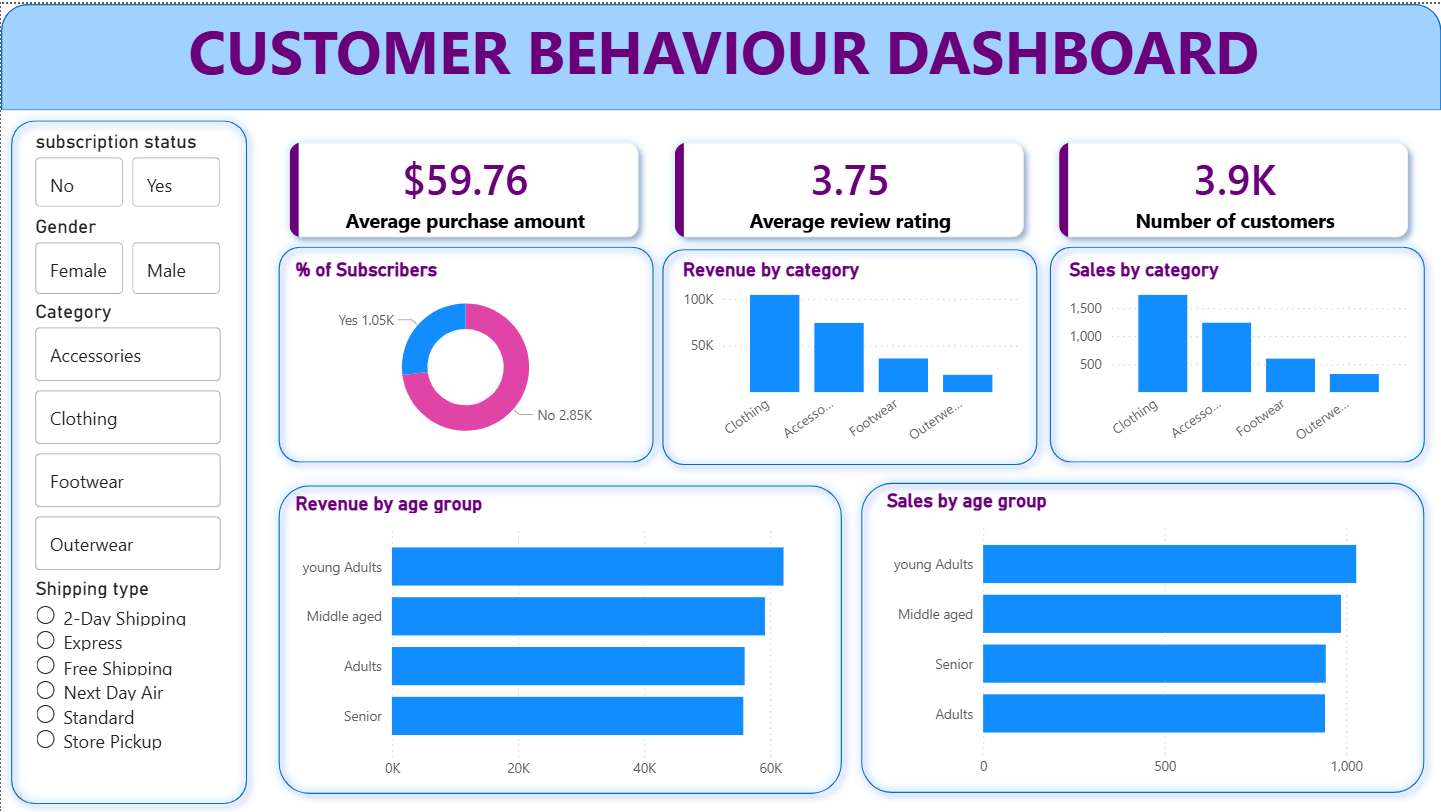

What the dashboard file says about the page in this screenshot:
{"tool":"powerbi","page":{"name":"Page 1","canvas":[1280,720],"ordinal":0},"visuals":[{"type":"cardVisual","fields":{"Data":["customers.Average purchase amount","customers.Average review rating","customers.Number of customers"]},"box":[227.8,94.7,1052.5,142.7],"z":0},{"type":"shape","box":[0,0,1280.3,94.7],"z":1000},{"type":"textbox","box":[4.1,0,1276.2,94.7],"z":2000},{"type":"shape","box":[237.4,207.2,351.3,209.9],"z":3000},{"type":"donutChart","title":"% of Subscribers","fields":{"Category":["customers.subscription_status"],"Y":["CountNonNull(customers.customer_id)"]},"box":[256.6,225,312.9,175.6],"z":4000},{"type":"shape","box":[579.1,208.6,351.3,209.9],"z":5000},{"type":"shape","box":[923.5,207.2,351.3,209.9],"z":6000},{"type":"clusteredColumnChart","title":"Revenue by category","fields":{"Y":["Sum(customers.purchase_amount)"],"Category":["customers.category"]},"box":[601,225,310.1,175.6],"z":7000},{"type":"clusteredColumnChart","title":"Sales by category","fields":{"Y":["CountNonNull(customers.customer_id)"],"Category":["customers.category"]},"box":[944.1,225,310.1,175.6],"z":8000},{"type":"shape","box":[0,94.7,227.8,625.7],"z":9000},{"type":"advancedSlicerVisual","title":"subscription status","fields":{"Values":["customers.subscription_status"]},"box":[26.1,112.5,175.6,74.1],"z":10000},{"type":"advancedSlicerVisual","title":"Gender","fields":{"Values":["customers.gender"]},"box":[26.1,188,175.6,75.5],"z":11000},{"type":"advancedSlicerVisual","title":"Category","fields":{"Values":["customers.category"]},"box":[26.1,263.5,175.6,245.6],"z":12000},{"type":"listSlicer","fields":{"Values":["customers.shipping_type"]},"box":[26.1,509.1,175.6,211.3],"z":13000},{"type":"shape","box":[237.4,418.5,518.7,292.3],"z":14000},{"type":"shape","box":[756.1,417.2,518.7,293.7],"z":16000},{"type":"clusteredBarChart","title":"Revenue by age group","fields":{"Category":["customers.age_group"],"Y":["Sum(customers.purchase_amount)"]},"box":[256.6,433.6,498.1,264.8],"z":16001},{"type":"clusteredBarChart","title":"Sales by age group","fields":{"Category":["customers.age_group"],"Y":["CountNonNull(customers.customer_id)"]},"box":[782.2,430.9,498.1,264.8],"z":16002}]}

Visuals, with their boxes in screenshot pixels (x1, y1, x2, y2), scaled from the page's 1280x720 canvas onto the 1441x812 screenshot:
cardVisual - customers.Average purchase amount x customers.Average review rating: [x1=256, y1=107, x2=1440, y2=268]
shape: [x1=0, y1=0, x2=1440, y2=107]
textbox: [x1=5, y1=0, x2=1440, y2=107]
shape: [x1=267, y1=234, x2=663, y2=470]
"% of Subscribers" donutChart: [x1=289, y1=254, x2=641, y2=452]
shape: [x1=652, y1=235, x2=1047, y2=472]
shape: [x1=1040, y1=234, x2=1435, y2=470]
"Revenue by category" clusteredColumnChart: [x1=677, y1=254, x2=1026, y2=452]
"Sales by category" clusteredColumnChart: [x1=1063, y1=254, x2=1412, y2=452]
shape: [x1=0, y1=107, x2=256, y2=811]
"subscription status" advancedSlicerVisual: [x1=29, y1=127, x2=227, y2=210]
"Gender" advancedSlicerVisual: [x1=29, y1=212, x2=227, y2=297]
"Category" advancedSlicerVisual: [x1=29, y1=297, x2=227, y2=574]
listSlicer - customers.shipping_type: [x1=29, y1=574, x2=227, y2=811]
shape: [x1=267, y1=472, x2=851, y2=802]
shape: [x1=851, y1=471, x2=1435, y2=802]
"Revenue by age group" clusteredBarChart: [x1=289, y1=489, x2=850, y2=788]
"Sales by age group" clusteredBarChart: [x1=881, y1=486, x2=1440, y2=785]
